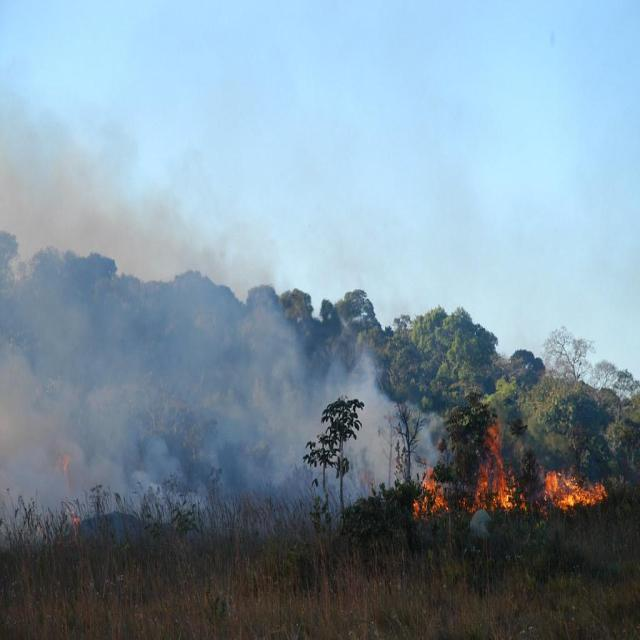Fire: (466, 427, 527, 510), (540, 464, 608, 510), (409, 466, 449, 522)
